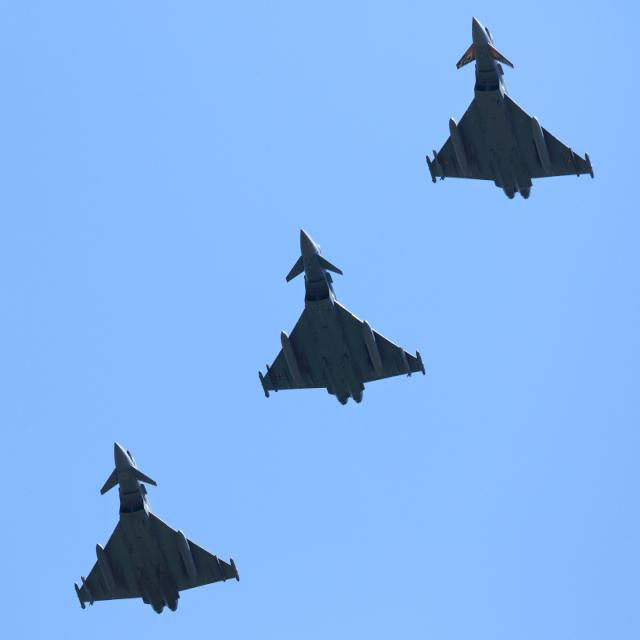MIL_Plane: (426, 16, 594, 200), (258, 228, 426, 406), (74, 440, 240, 615)
